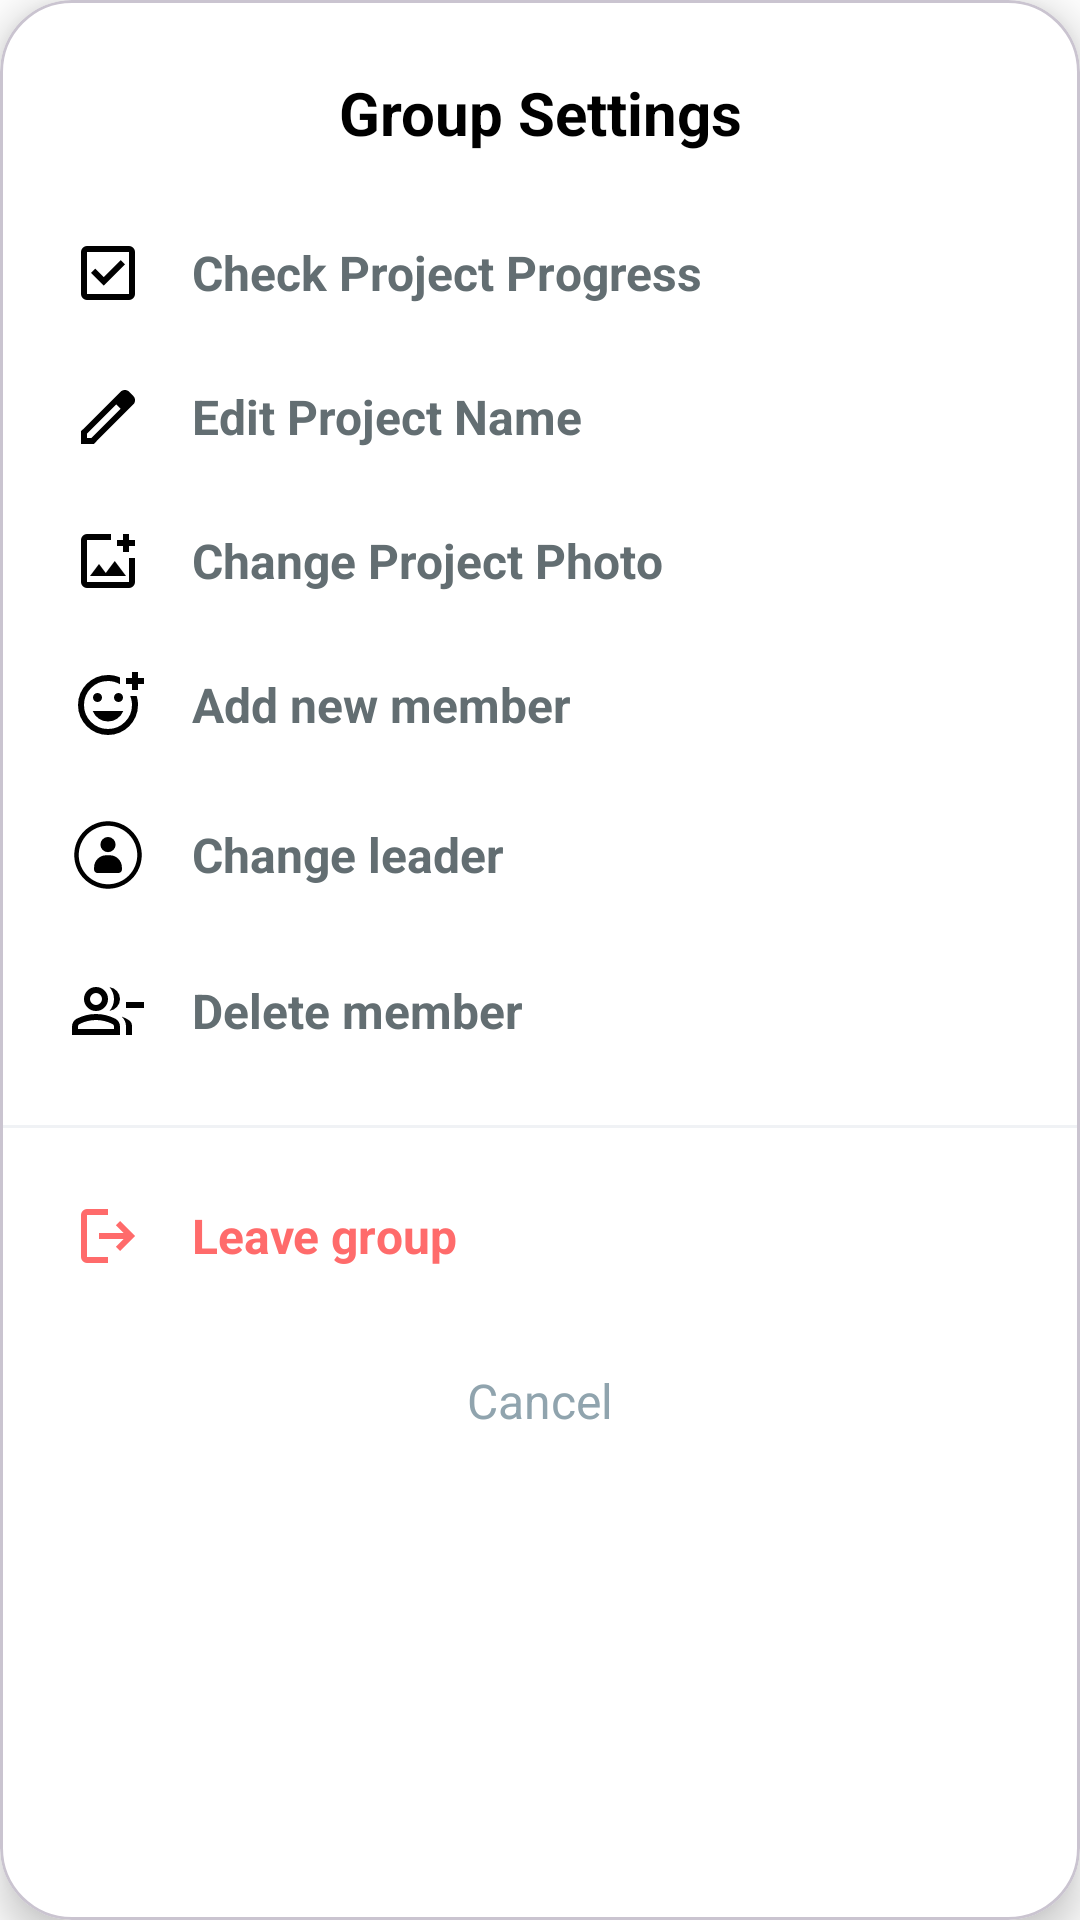

Icon click points for this 1080*1920 phone screenshot, format (x,y):
add photo from gallery: (108,561)
remove person: (108,1011)
